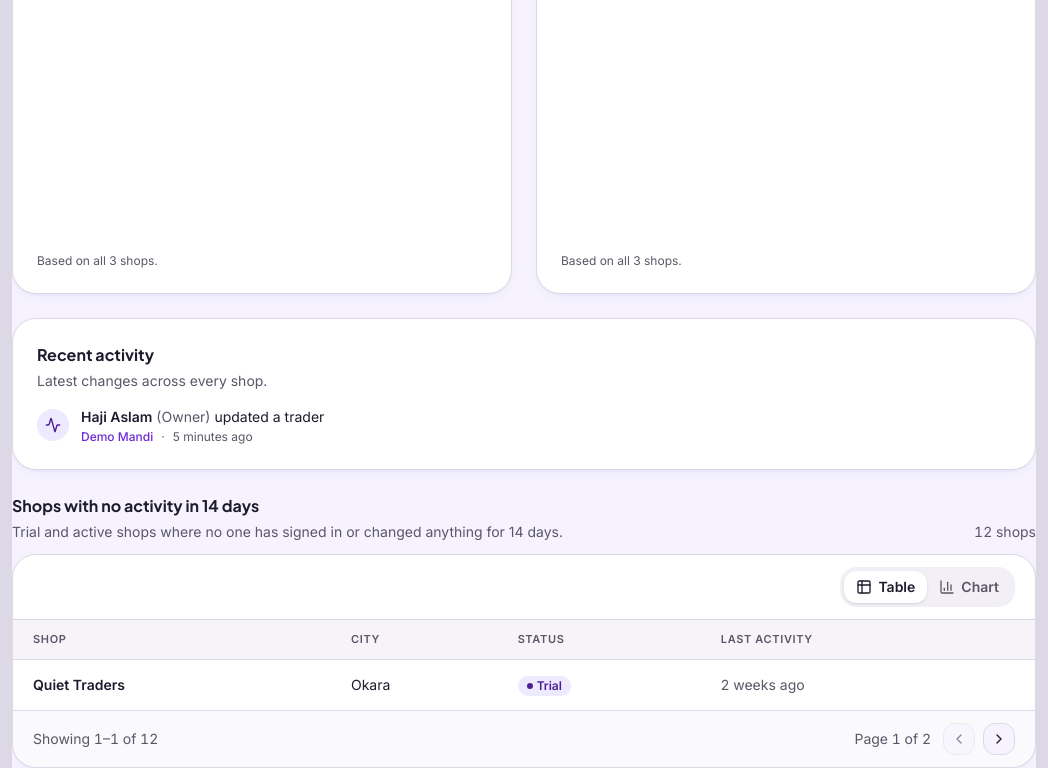
Test: PlatformDashboard › inactive shops › asks the server for the next page
The width and height of the screenshot is (1048, 768).
(page scrolled)
Expected: the link "Quiet Traders" is shown, [33,676,125,693]
Click the button named "next page": (999, 739) [983,723,1015,755]
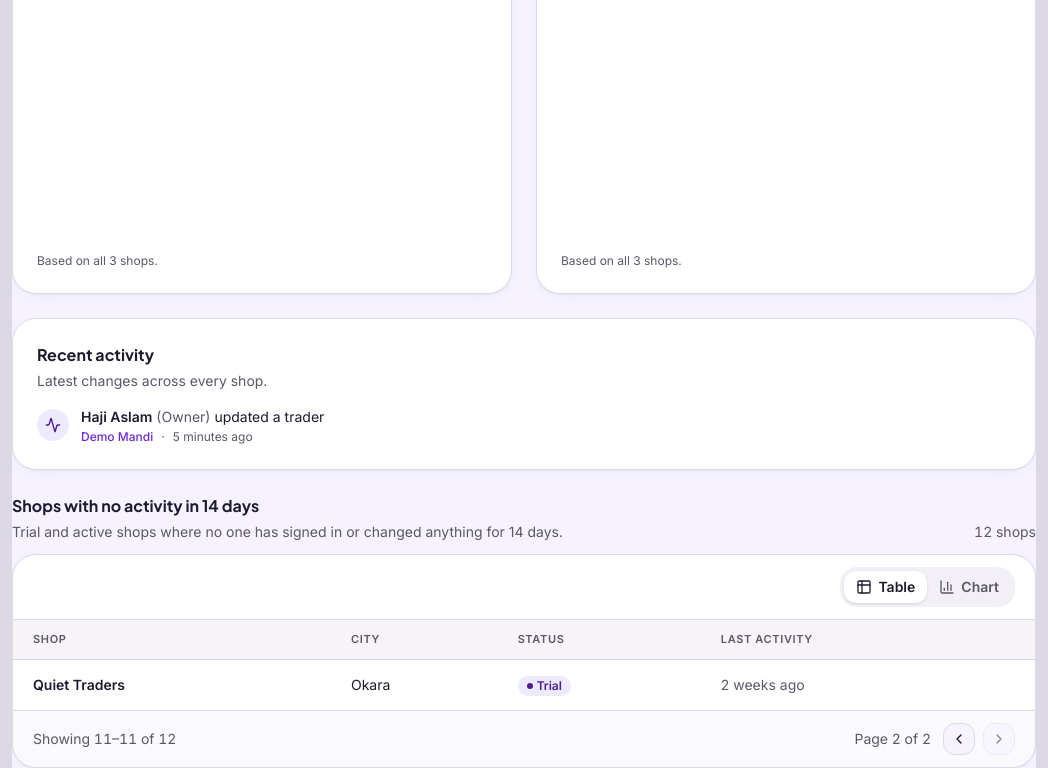
Expected: the text "Page 2 of 2" is shown, [854,729,931,749]
